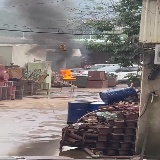fire: (60, 69, 76, 79)
